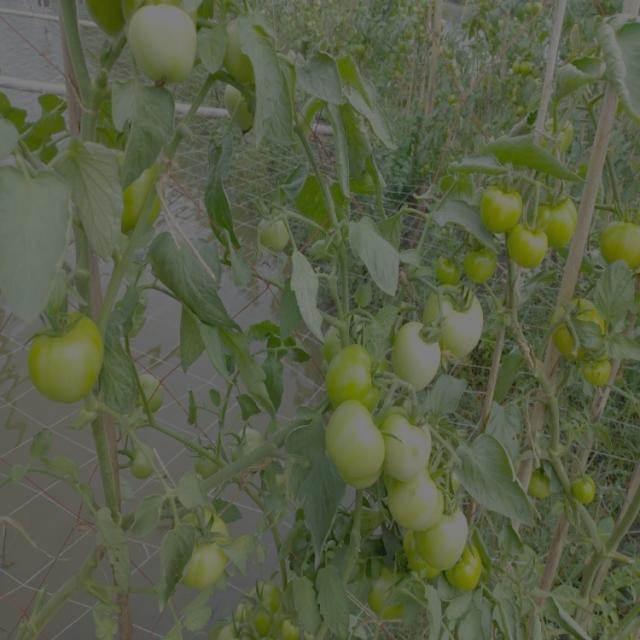tomato: (22, 308, 107, 406), (123, 1, 202, 80), (171, 507, 233, 587), (114, 154, 170, 234), (384, 325, 453, 380), (330, 411, 381, 484), (326, 347, 383, 410), (227, 16, 276, 86), (552, 294, 610, 350), (367, 569, 421, 627), (430, 300, 489, 348), (393, 425, 437, 485), (396, 491, 449, 537), (432, 503, 465, 574), (253, 202, 293, 253), (240, 581, 283, 627), (607, 215, 640, 272), (543, 196, 582, 243), (545, 106, 581, 155), (230, 426, 270, 469), (454, 544, 487, 596), (136, 369, 173, 414), (126, 440, 163, 485), (461, 242, 498, 280), (355, 165, 384, 213), (509, 236, 551, 269), (568, 469, 605, 505), (580, 352, 617, 387), (222, 91, 256, 129), (489, 195, 522, 233), (193, 440, 222, 476), (433, 253, 463, 287), (355, 278, 378, 312), (536, 468, 554, 497), (220, 622, 244, 640)
